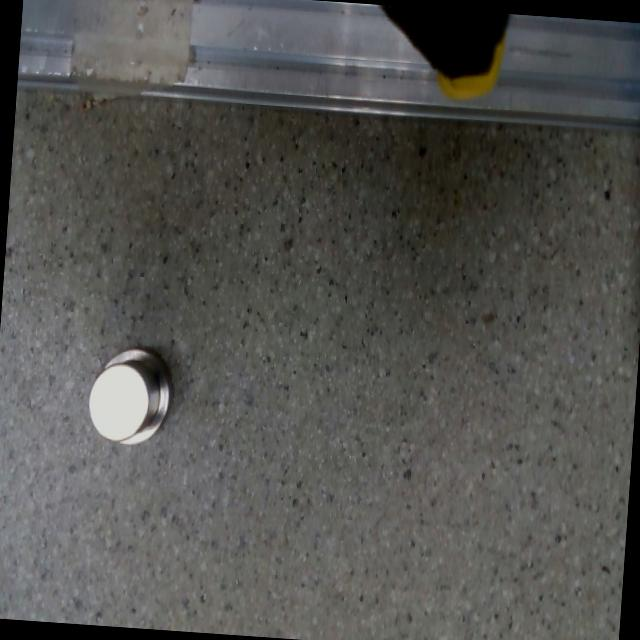sensor: (84, 342, 174, 448)
